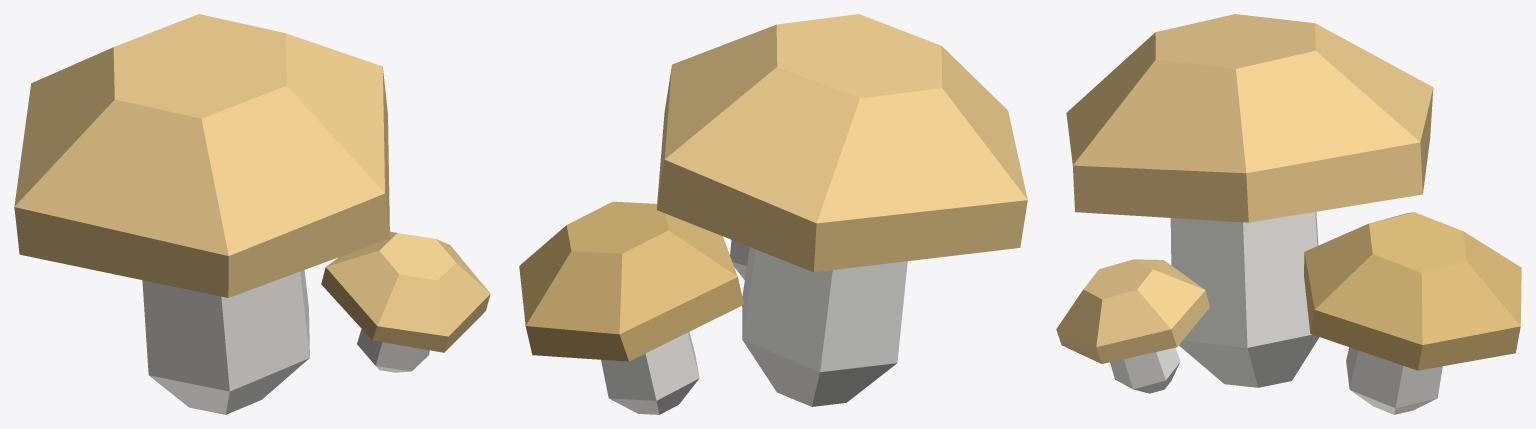
Rendered from Plants_Pack_Mushroom_part_01.001.fbx.
The picture shows the model from 3 angles, left to right: view 1: azimuth 30°, elevation 25°; view 2: azimuth 150°, elevation 25°; view 3: azimuth 270°, elevation 25°; orthographic projection. The views are drawn at different scales.
Visible parts, largest first — view 1: Plants_Pack_Mushroom_part_01.001; view 2: Plants_Pack_Mushroom_part_01.001; view 3: Plants_Pack_Mushroom_part_01.001.
Boxes of the visible parts, left/top/right/bottom form: Plants_Pack_Mushroom_part_01.001: left=14, top=14, right=490, bottom=414; Plants_Pack_Mushroom_part_01.001: left=519, top=14, right=1027, bottom=414; Plants_Pack_Mushroom_part_01.001: left=1056, top=14, right=1521, bottom=414.
Bounding box in the file's own units: 43.24 × 34.69 × 43.55.
